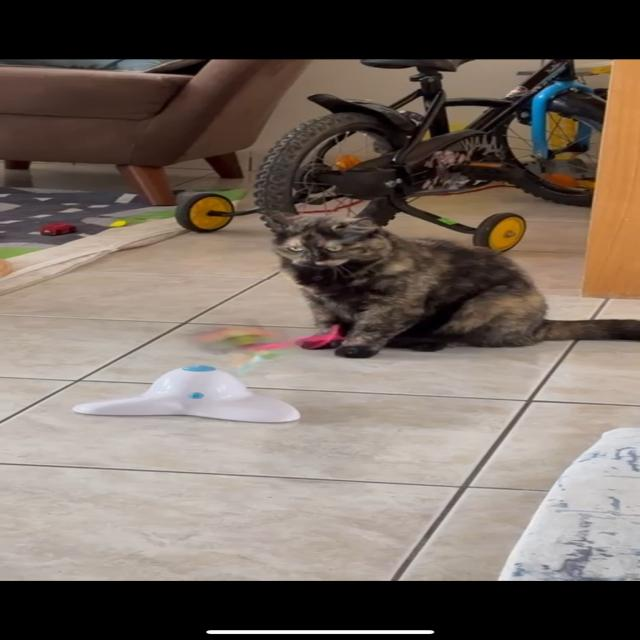authorized: (256, 209, 638, 359)
